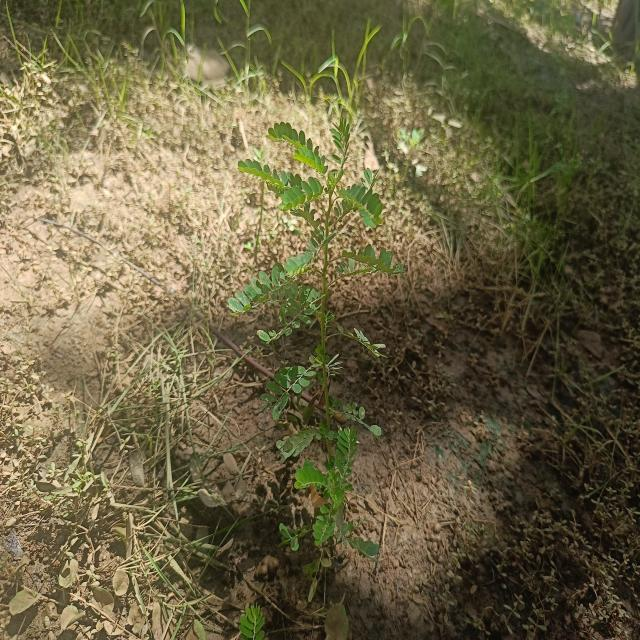weed: (222, 110, 412, 560)
